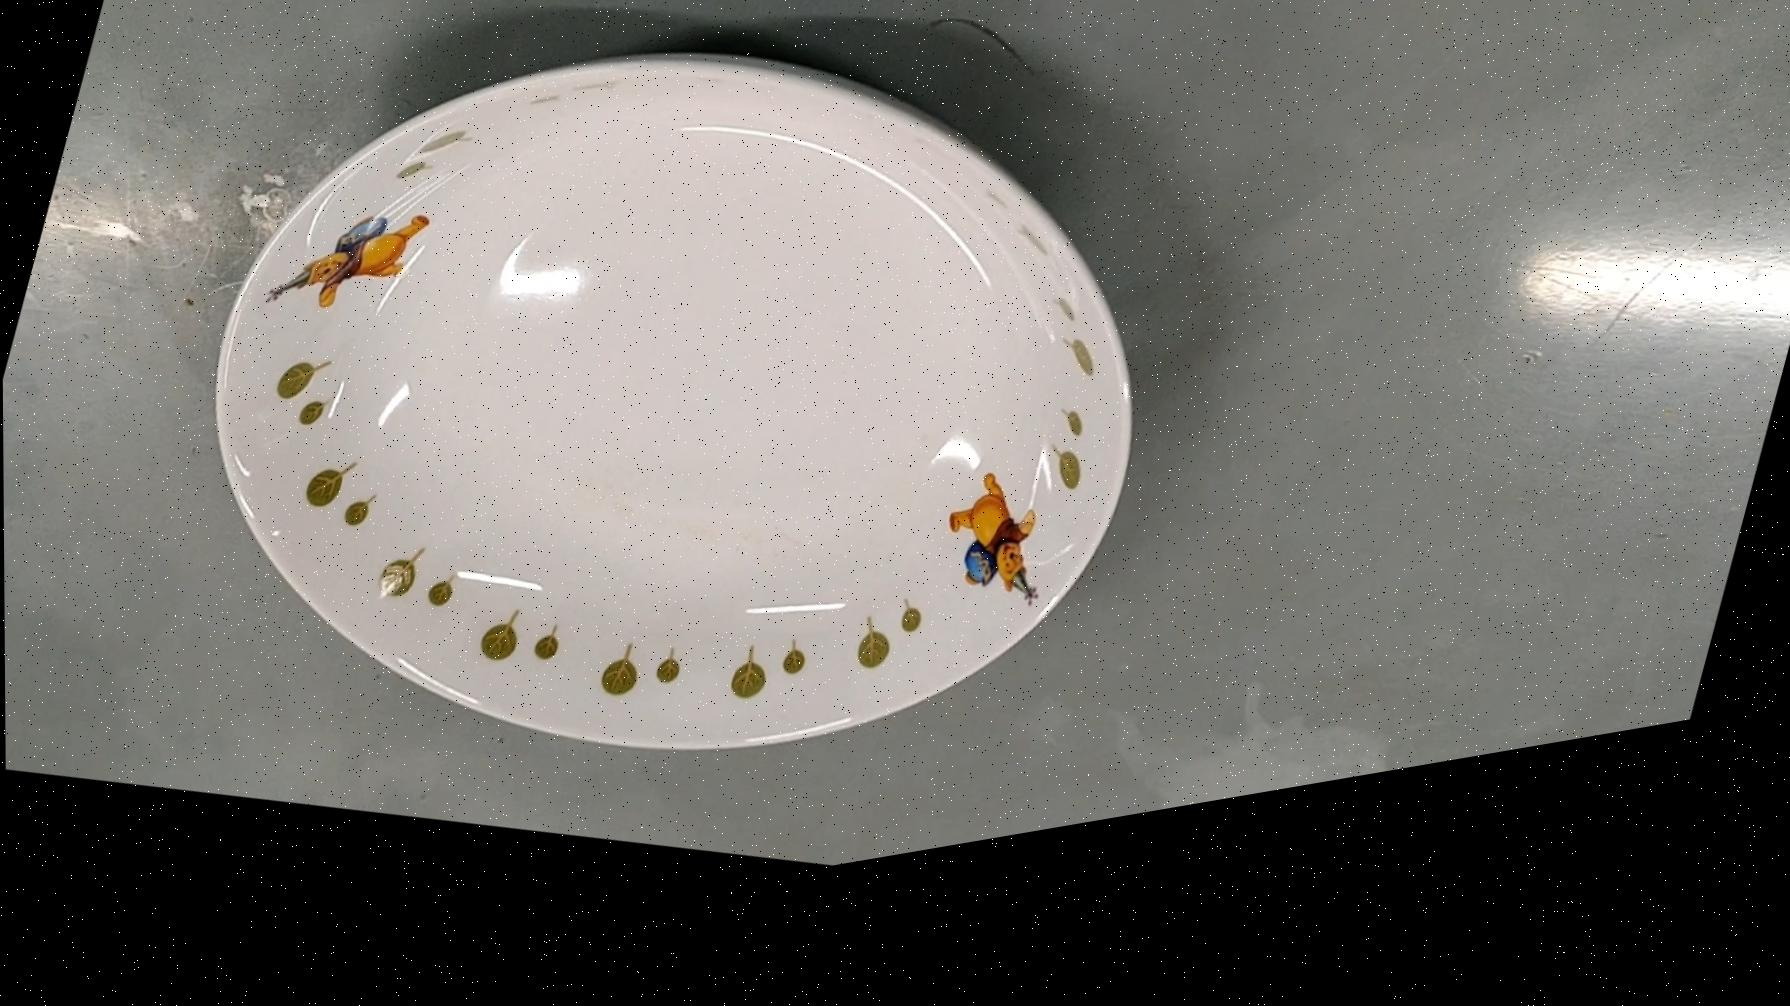plate: (124, 0, 1228, 956)
